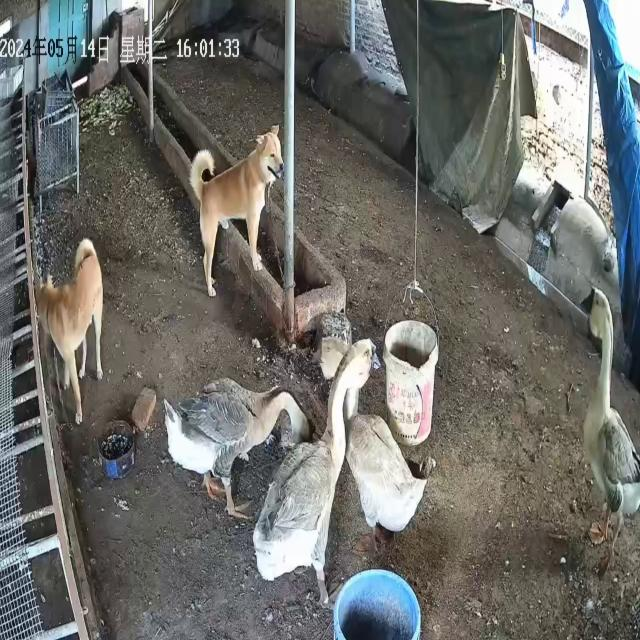dog: (189, 124, 285, 299), (37, 238, 105, 427)
